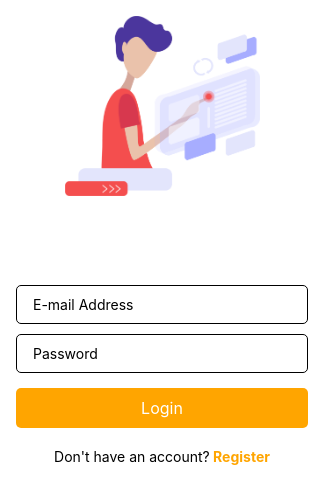
Test case: email check
Clear the field with placeholder "E-mail Address": (162, 304) [16, 285, 308, 324]
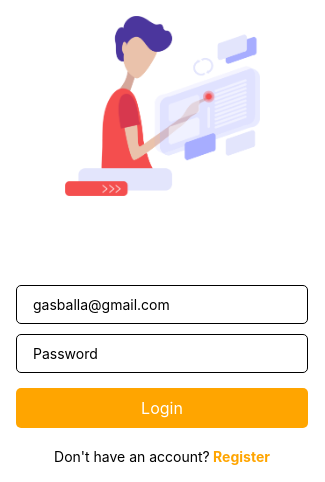
Check: the field holds "gasballa@gmail.com", box [16, 285, 308, 324]
